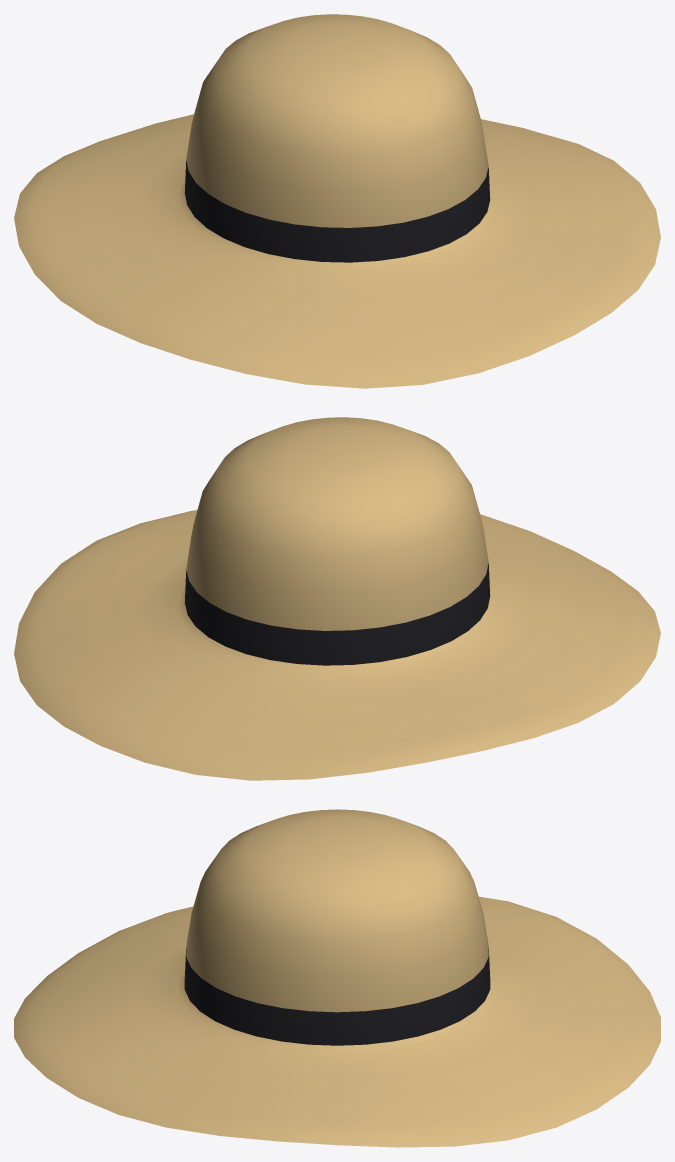
The model's file is sun_hat.glb.
3 views of the same model, one above another, from view 1: azimuth 30°, elevation 25°; view 2: azimuth 150°, elevation 25°; view 3: azimuth 270°, elevation 25° (orthographic). The views are drawn at different scales.
Parts seen in each view (by area): view 1: sun_hat; view 2: sun_hat; view 3: sun_hat.
Part boxes in pixels (x1,y1,x2,y2): sun_hat: (14,14,660,388); sun_hat: (14,417,660,780); sun_hat: (14,809,660,1147).
Bounding box in the file's own units: 0.4085 × 0.1458 × 0.4282.
